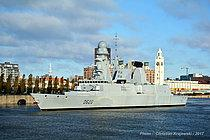MIL_Ship: (28, 39, 190, 109)
